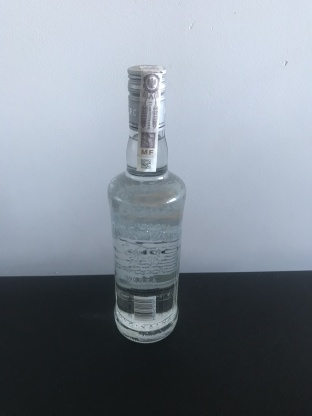nakretka: (125, 61, 168, 133)
